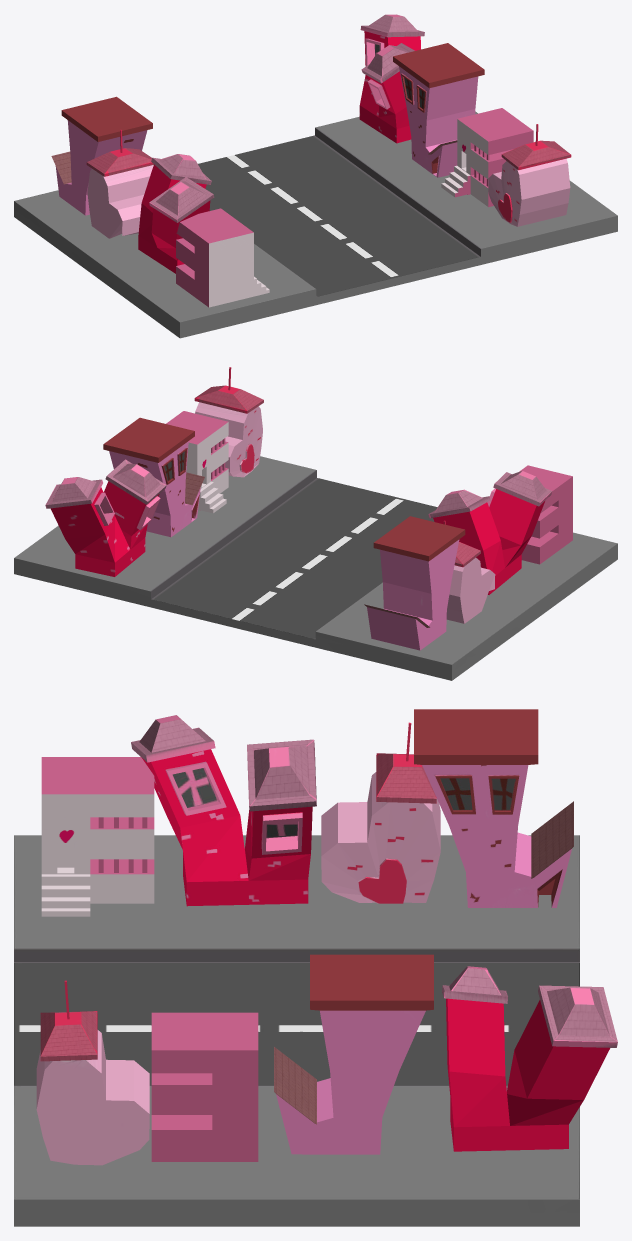
Rendered from town3.fbx.
The picture shows the model from 3 angles, top to bottom: view 1: azimuth 30°, elevation 25°; view 2: azimuth 150°, elevation 25°; view 3: azimuth 270°, elevation 25°; orthographic projection. The views are drawn at different scales.
Visible parts, largest first — view 1: polySurface13; view 2: polySurface13; view 3: polySurface13.
Part boxes in pixels (bbox=[...]): polySurface13: bbox=[14, 14, 617, 338]; polySurface13: bbox=[14, 367, 617, 680]; polySurface13: bbox=[14, 709, 617, 1226].
Bounding box in the file's own units: 2645 × 647 × 1853.
